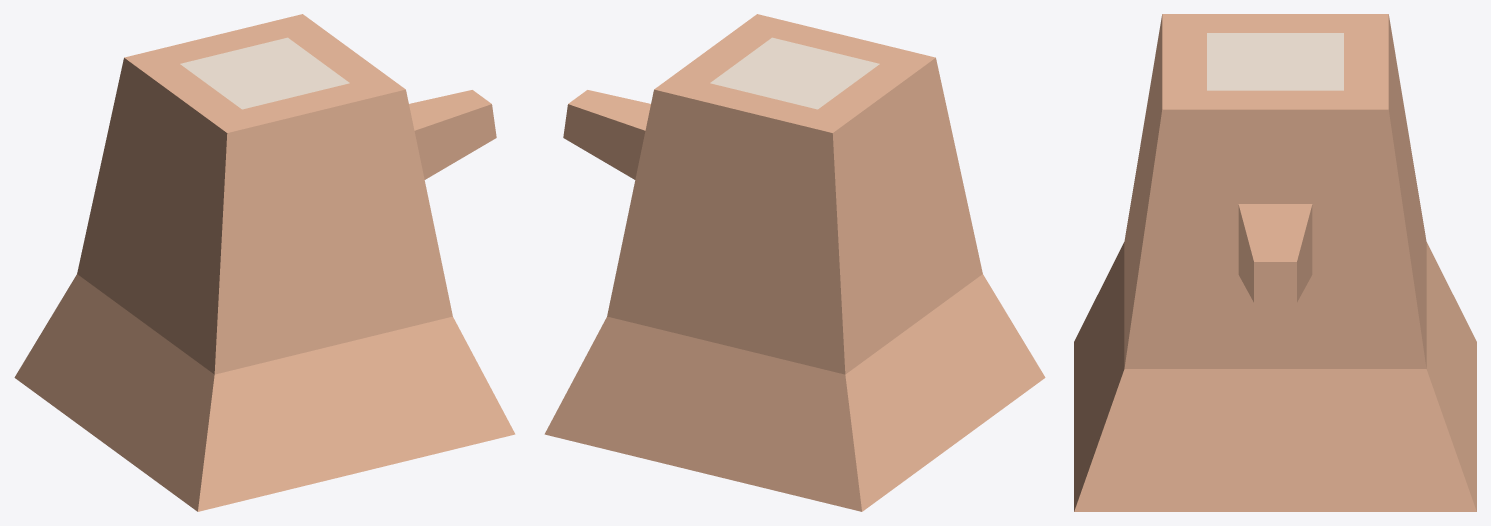
The model's file is stump_square.glb.
3 views of the same model, side by side, from view 1: azimuth 30°, elevation 25°; view 2: azimuth 150°, elevation 25°; view 3: azimuth 270°, elevation 25° (orthographic). The views are drawn at different scales.
Parts seen in each view (by area): view 1: stump_square; view 2: stump_square; view 3: stump_square.
Boxes of the visible parts, x1=… form: stump_square: x1=14, y1=14, x2=515, y2=511; stump_square: x1=544, y1=14, x2=1045, y2=511; stump_square: x1=1074, y1=14, x2=1476, y2=511.
Bounding box in the file's own units: 0.3596 × 0.3 × 0.3.
Materials: 1 (1 with a texture image).
